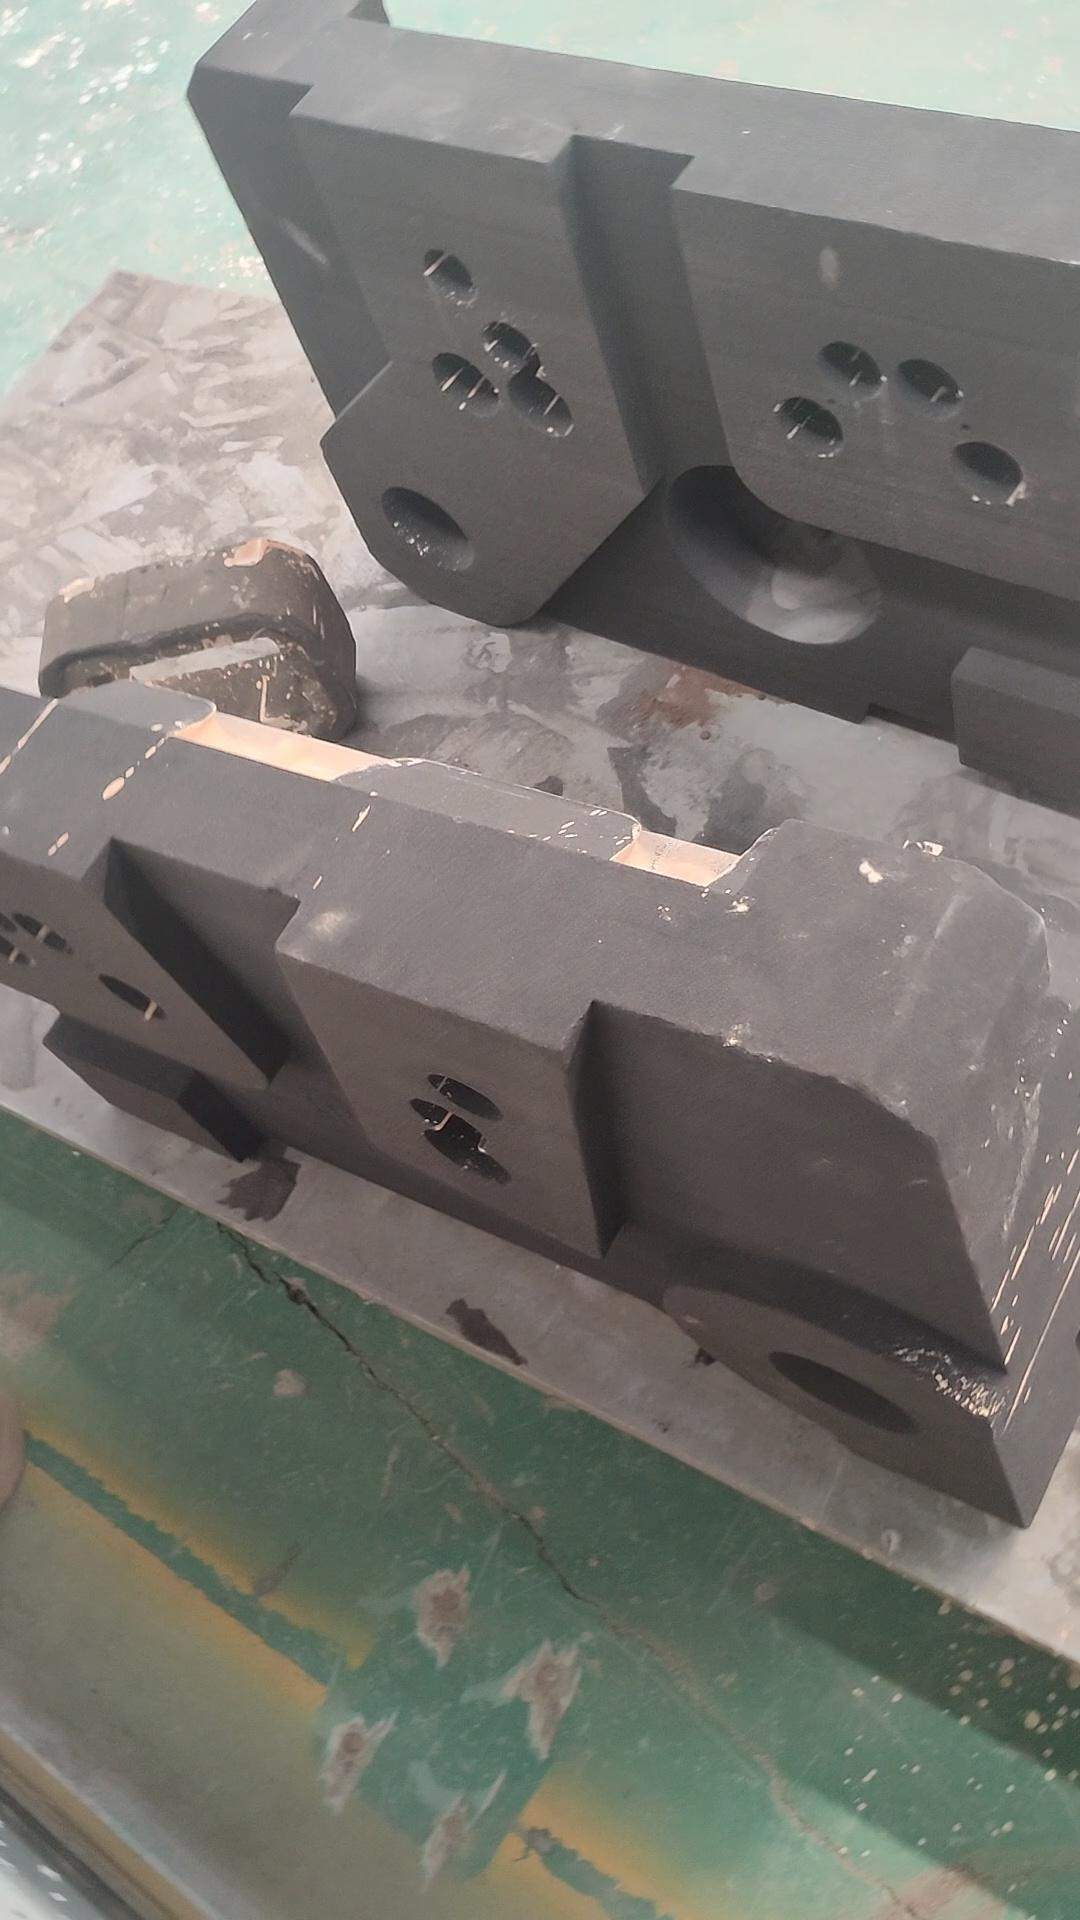pouring hole: (770, 1356, 920, 1437), (378, 487, 475, 571)
